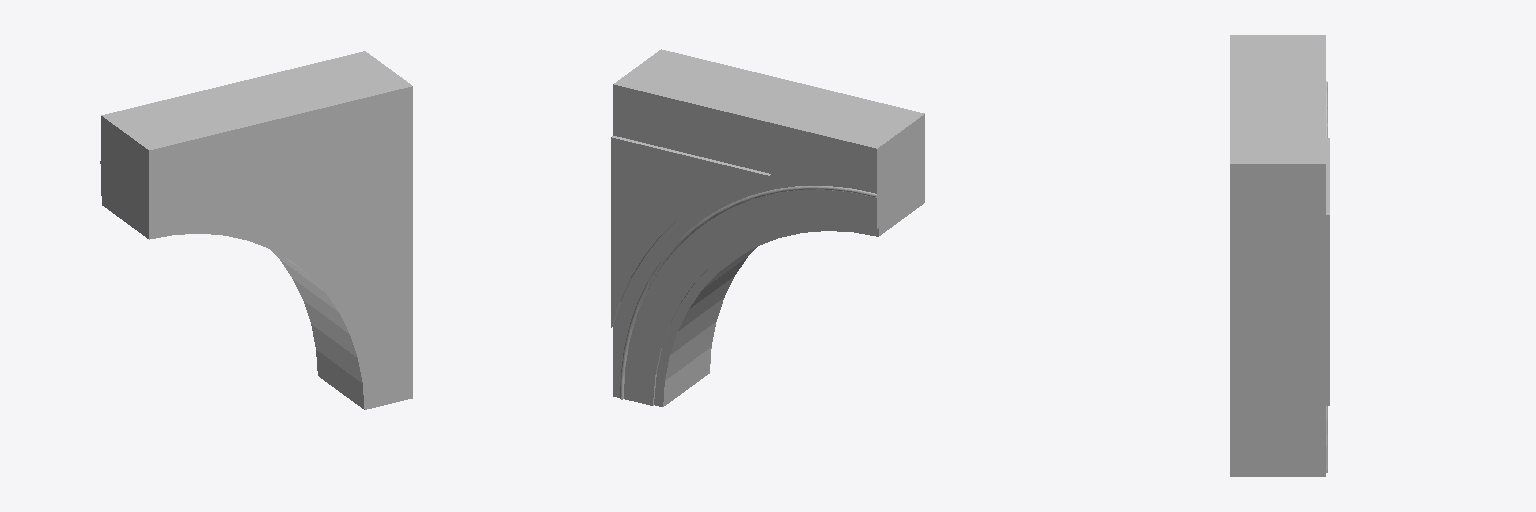
Rendered from arch_m.obj.
The picture shows the model from 3 angles: view 1: azimuth 30°, elevation 25°; view 2: azimuth 150°, elevation 25°; view 3: azimuth 270°, elevation 25°; orthographic projection.
Visible parts, largest first — view 1: Library_Arch.001_Library_Arch.002; view 2: Library_Arch.001_Library_Arch.002; view 3: Library_Arch.001_Library_Arch.002.
Part boxes in pixels (left/top/right/bottom): Library_Arch.001_Library_Arch.002: left=100, top=51, right=412, bottom=409; Library_Arch.001_Library_Arch.002: left=611, top=49, right=924, bottom=406; Library_Arch.001_Library_Arch.002: left=1230, top=35, right=1329, bottom=476.
Bounding box in the file's own units: 2.5 × 2.82 × 0.8262.